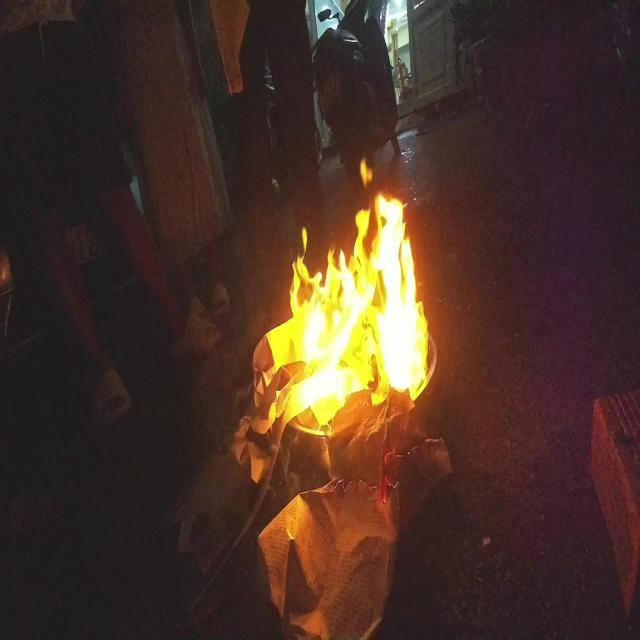Fire: (263, 147, 428, 426)
